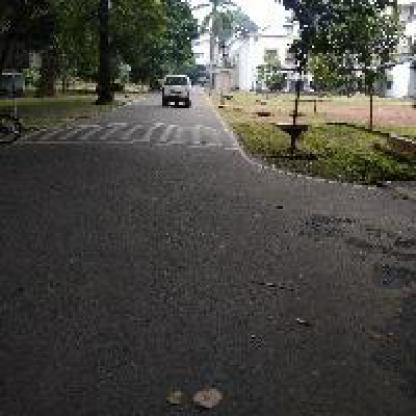Speed Bump: (27, 119, 239, 150)
